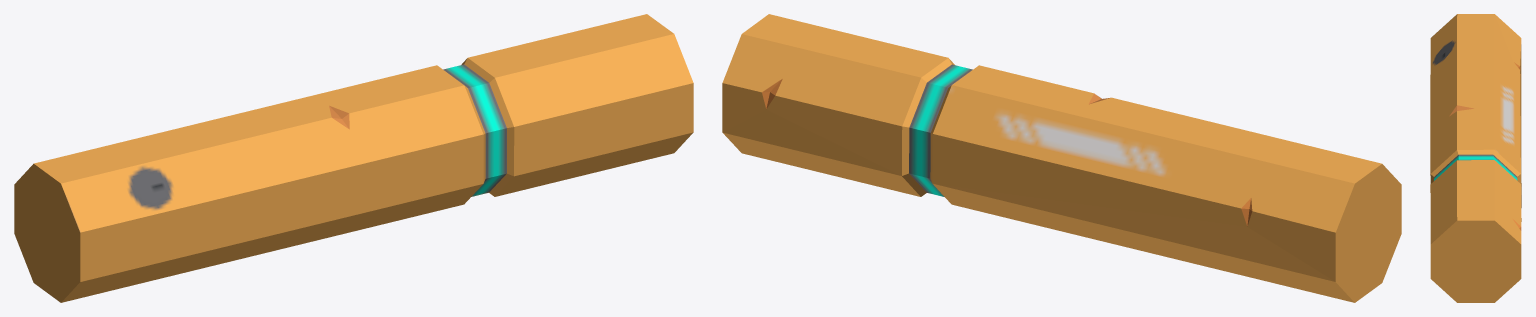
Rendered from SM_Bld_Pipe_Small_03.fbx.
3 renders of one model, left to right at view 1: azimuth 30°, elevation 25°; view 2: azimuth 150°, elevation 25°; view 3: azimuth 270°, elevation 25°, orthographic. The views are drawn at different scales.
Visible parts, largest first — view 1: SM_Bld_Pipe_Small_03; view 2: SM_Bld_Pipe_Small_03; view 3: SM_Bld_Pipe_Small_03.
Part boxes in pixels (<box>): SM_Bld_Pipe_Small_03: <box>14,14,693,302</box>; SM_Bld_Pipe_Small_03: <box>722,14,1401,302</box>; SM_Bld_Pipe_Small_03: <box>1430,14,1521,302</box>.
Size of the model in its own units: 250 by 46.55 by 46.55.
